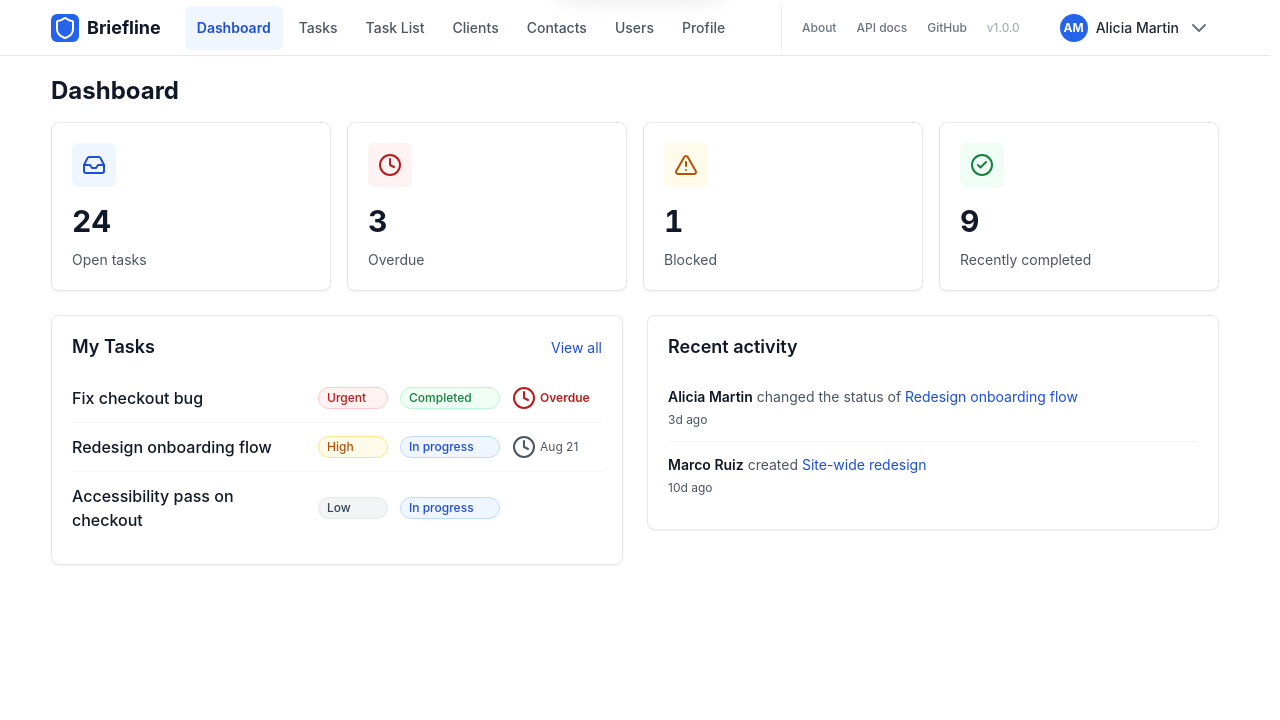
it: KPI cards (DASH-001/004) › navigates to the filtered board when a card is clicked (DASH-004)
Expected: the heading "Dashboard" is shown, [51,76,179,106]
Expected: the link with aria-label "Open tasks: 24" is shown, [51,122,331,290]
Click the link with aria-label "Blocked: 1": (686, 165) [643,122,923,290]
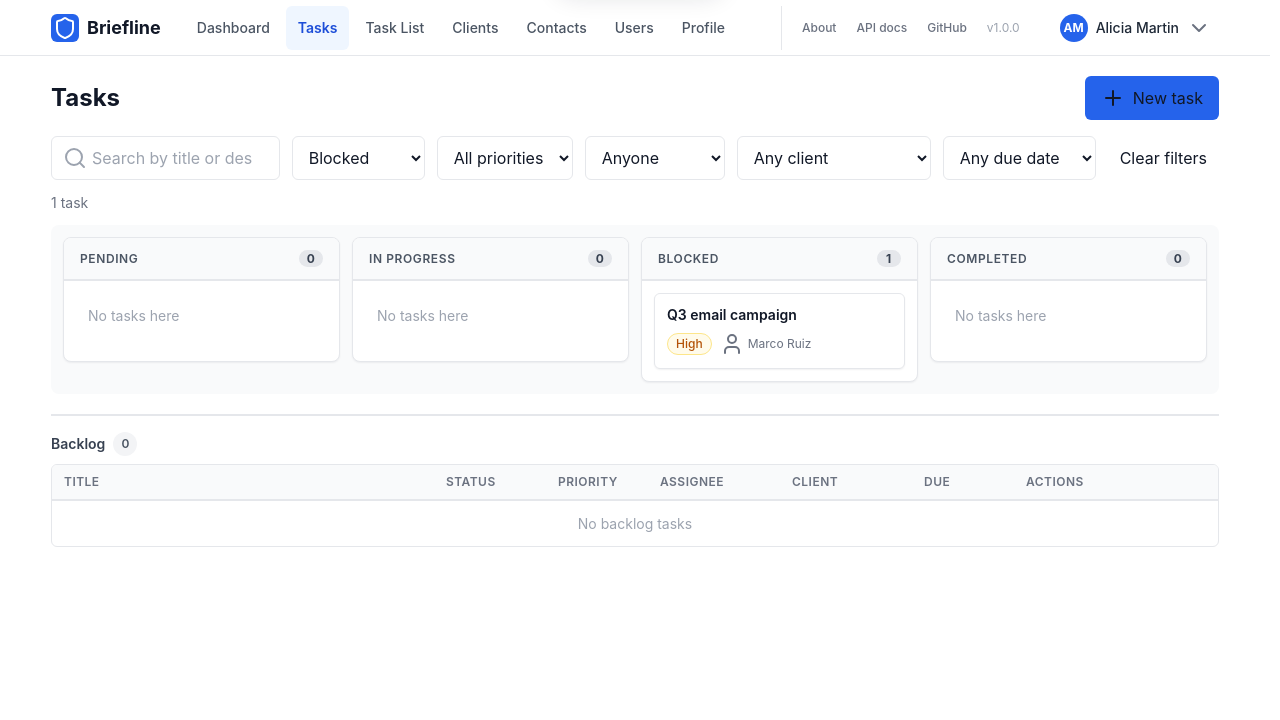
Result: the heading "Tasks" is shown at [51,83,120,113]
